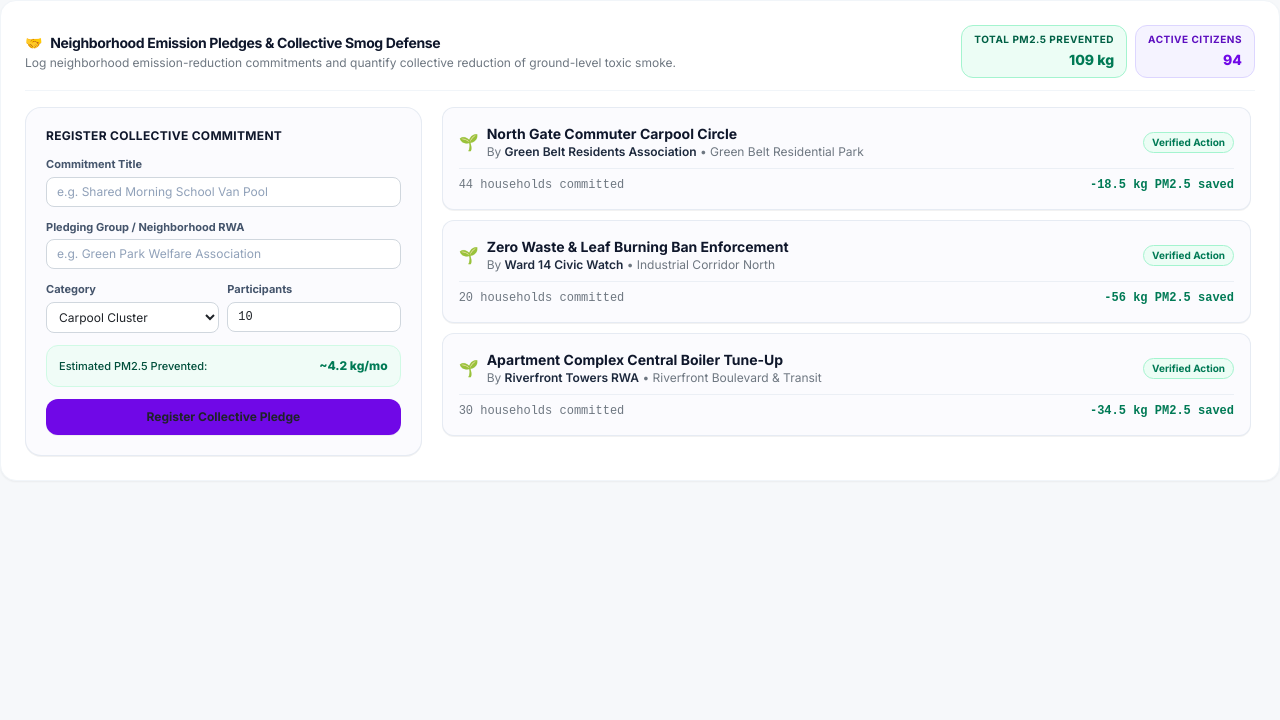
Test: EmissionPledges interactions › submits a new community pledge and adds it to the view
Type "Downtown EV Carpool Fleet" into the field with placeholder "e.g. Shared Morning School Van Pool" at (223, 192), box [46, 176, 401, 206]
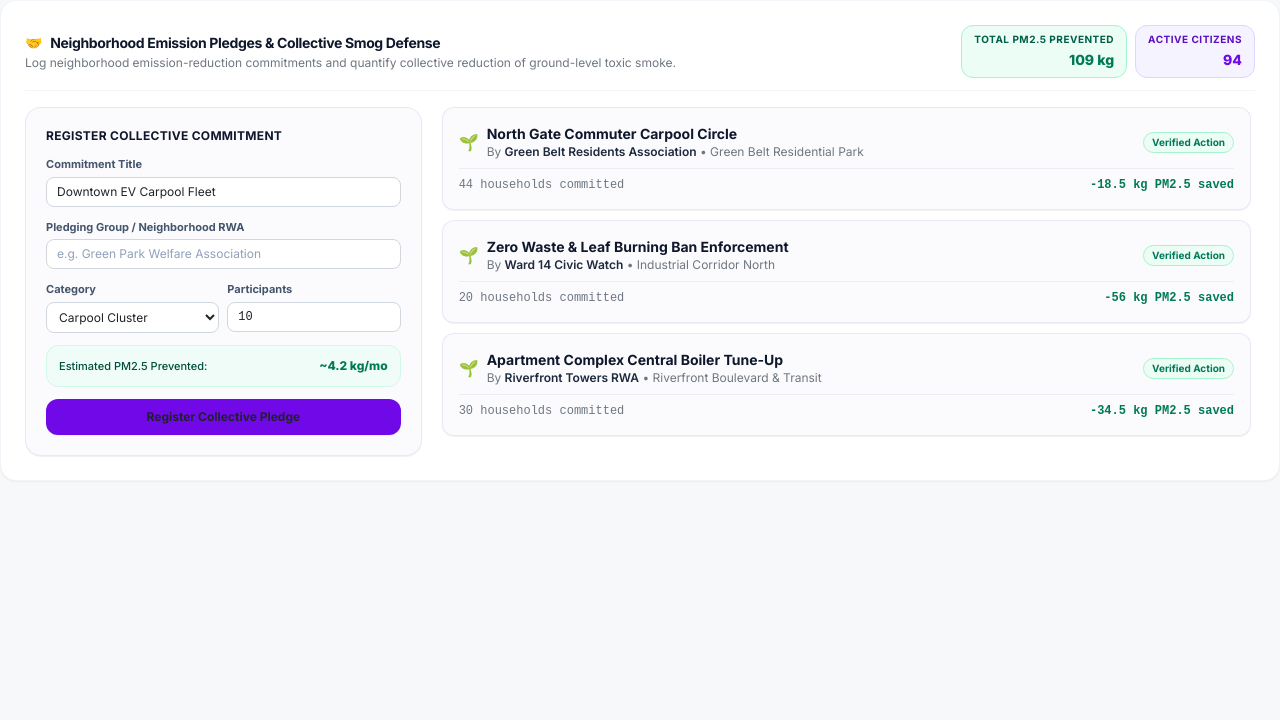
Type "Clean Commute Club" into the field with placeholder "e.g. Green Park Welfare Association" at (223, 254), box [46, 239, 401, 269]
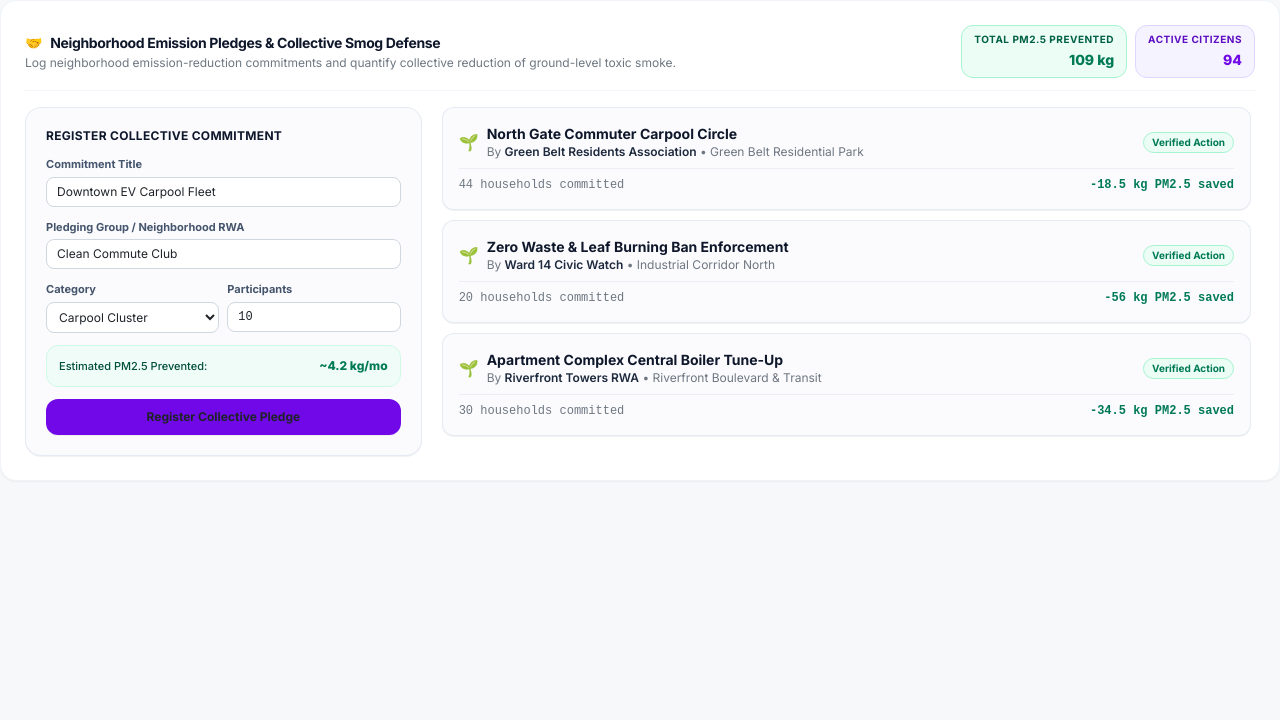
Click the button "Register Collective Pledge" at (223, 417), box [46, 399, 401, 435]
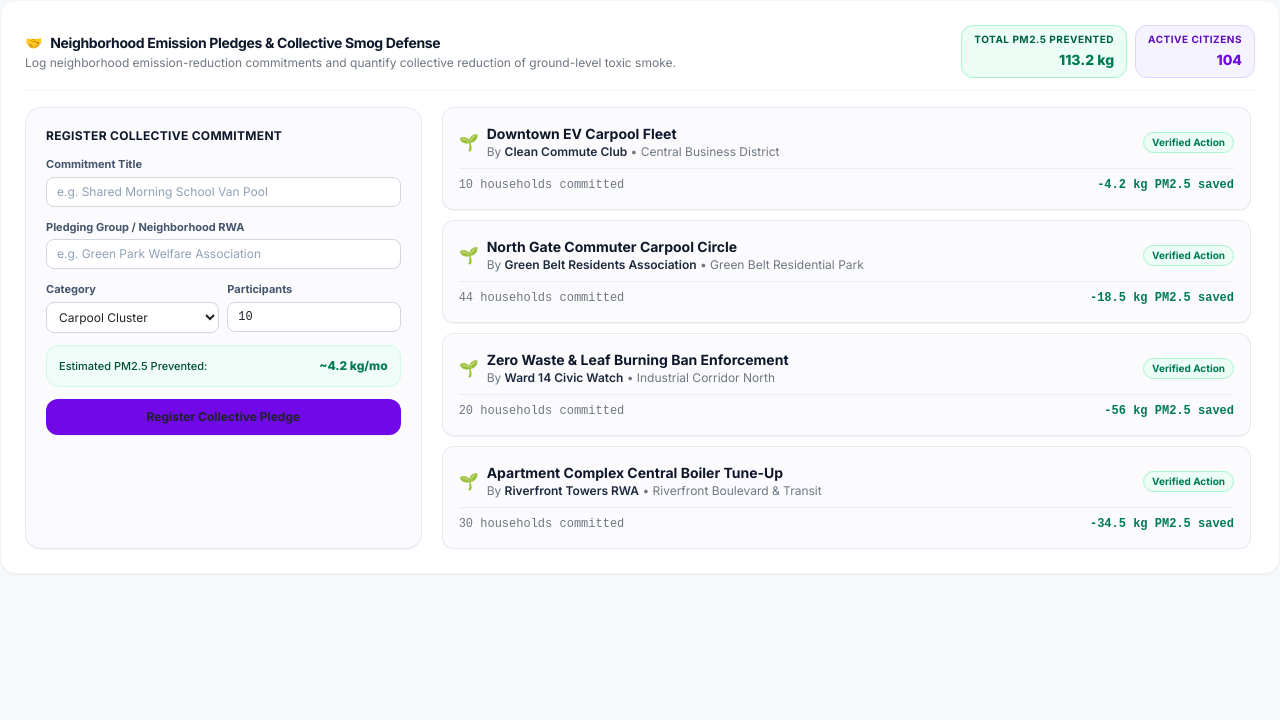
Expected: the heading "Downtown EV Carpool Fleet" is shown, [487, 125, 676, 142]
Expected: the text "Clean Commute Club" is shown, [505, 144, 627, 159]
